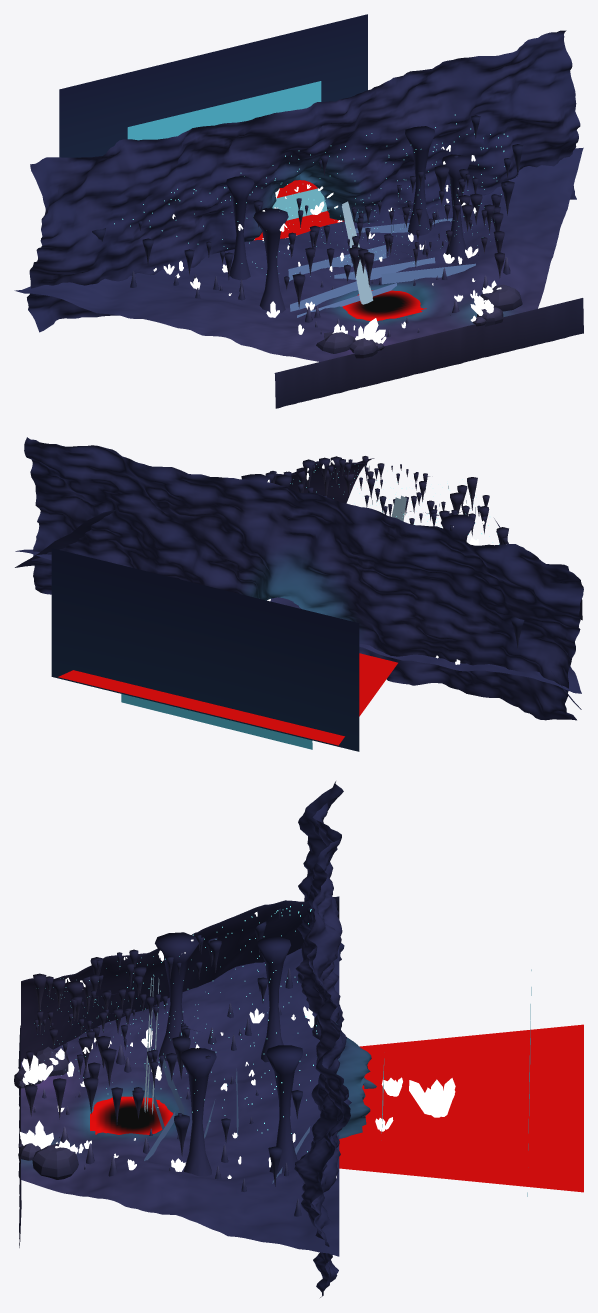
File: backdrop_2.glb
The picture shows the model from 3 angles, top to bottom: view 1: azimuth 30°, elevation 25°; view 2: azimuth 150°, elevation 25°; view 3: azimuth 270°, elevation 25°; orthographic projection. The views are drawn at different scales.
Parts seen in each view (by area): view 1: mid_backwall, mid_floor, lm_chamber, mid_stalactites, fg_bank, mid_mist, fg_rocks, mid_pool, mid_crystals, fg_crystals, mid_beams, mid_glowworms; view 2: mid_backwall, lm_chamber, mid_stalactites, mid_ceiling, mid_mist, mid_floor; view 3: mid_floor, lm_chamber, mid_stalactites, mid_backwall, mid_ceiling, mid_pool, fg_rocks, mid_crystals, mid_mist, fg_crystals.
Boxes of the visible parts, x1,y1,x2,y2 form: mid_backwall: [27, 30, 580, 332]; mid_floor: [14, 147, 583, 361]; lm_chamber: [59, 14, 367, 240]; mid_stalactites: [92, 115, 523, 337]; fg_bank: [274, 298, 583, 408]; mid_mist: [127, 81, 475, 317]; fg_rocks: [316, 284, 522, 358]; mid_pool: [342, 290, 426, 321]; mid_crystals: [153, 145, 486, 334]; fg_crystals: [332, 280, 501, 343]; mid_beams: [342, 201, 373, 304]; mid_glowworms: [114, 114, 508, 276]; mid_backwall: [24, 437, 583, 720]; lm_chamber: [51, 548, 397, 751]; mid_stalactites: [241, 456, 524, 649]; mid_ceiling: [15, 458, 581, 709]; mid_mist: [121, 694, 312, 749]; mid_floor: [15, 549, 581, 693]; mid_floor: [21, 946, 339, 1256]; lm_chamber: [339, 1024, 583, 1192]; mid_stalactites: [24, 907, 337, 1216]; mid_backwall: [294, 781, 376, 1297]; mid_ceiling: [21, 896, 339, 1061]; mid_pool: [90, 1096, 172, 1134]; fg_rocks: [14, 1046, 78, 1179]; mid_crystals: [56, 912, 336, 1178]; mid_mist: [143, 969, 531, 1196]; fg_crystals: [20, 1048, 77, 1153].
Bounding box in the file's own units: 148 × 44 × 105.
